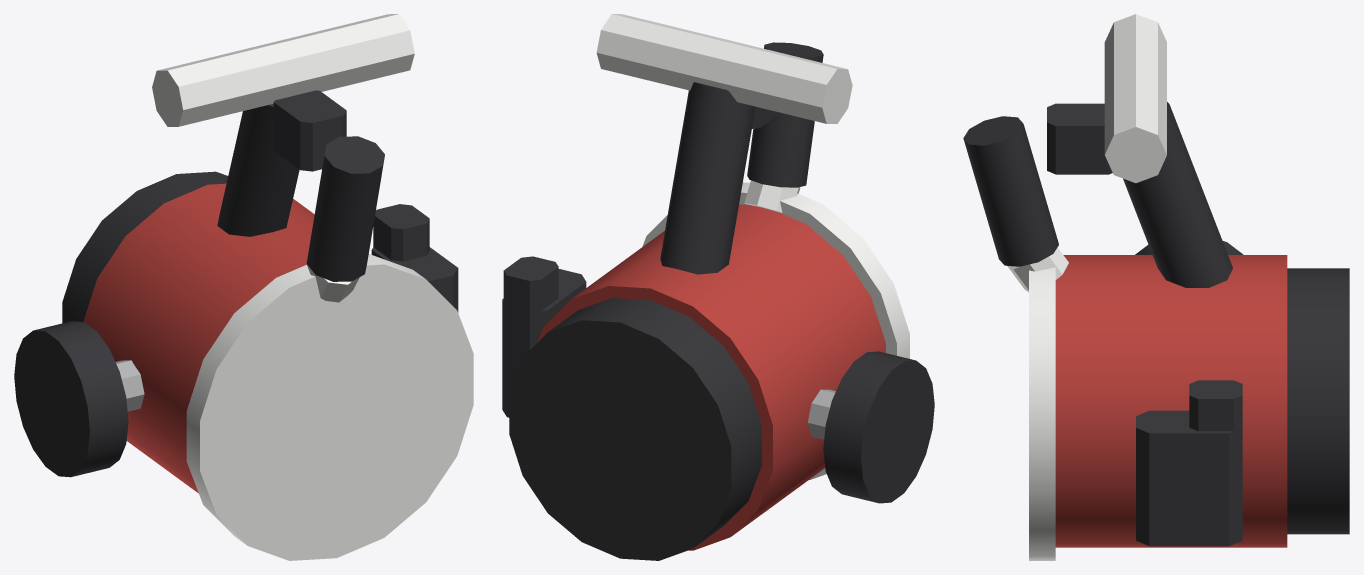
Rendered from throttle_body_race.glb.
3 views of the same model, side by side, from view 1: azimuth 30°, elevation 25°; view 2: azimuth 150°, elevation 25°; view 3: azimuth 270°, elevation 25° (orthographic). The views are drawn at different scales.
Parts seen in each view (by area): view 1: lod0; view 2: lod0; view 3: lod0.
Part boxes in pixels (bbox=[...]): lod0: bbox=[14, 14, 473, 560]; lod0: bbox=[502, 14, 934, 560]; lod0: bbox=[963, 14, 1349, 560].
Size of what is drawn, in the model's own units: 0.1 by 0.118 by 0.0868.
